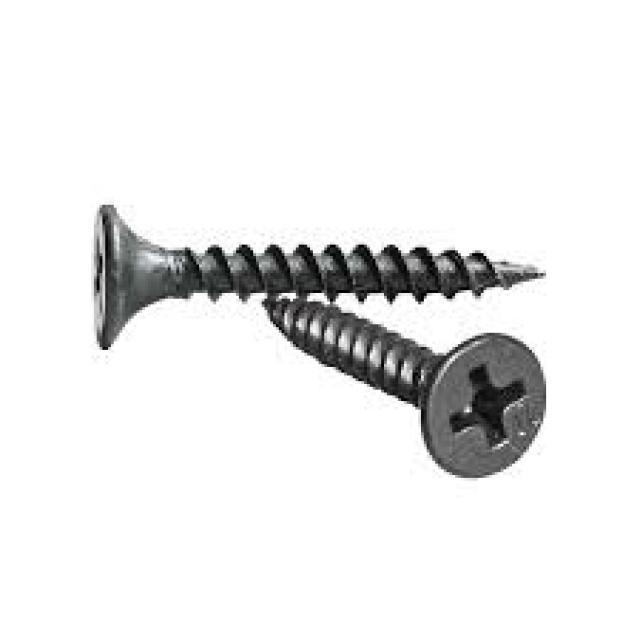Screw: (94, 205, 546, 353), (265, 296, 549, 478)
